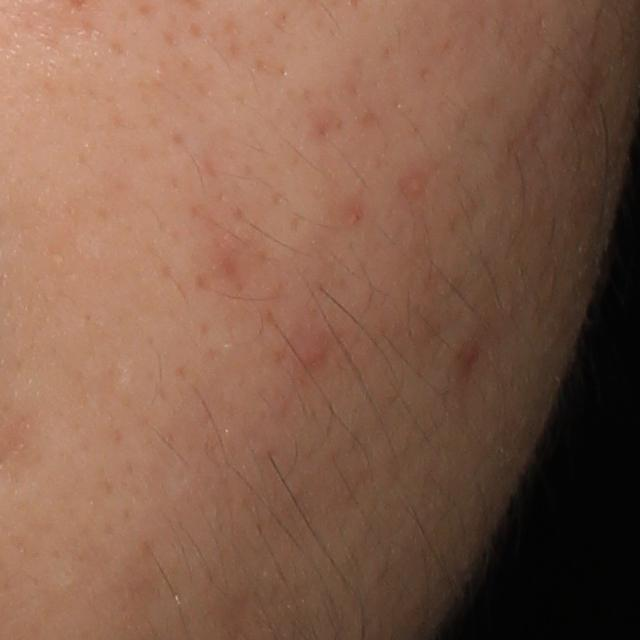papule: (295, 338, 336, 375)
